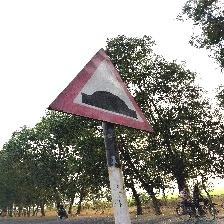Speed-breaker: (47, 48, 155, 133)
